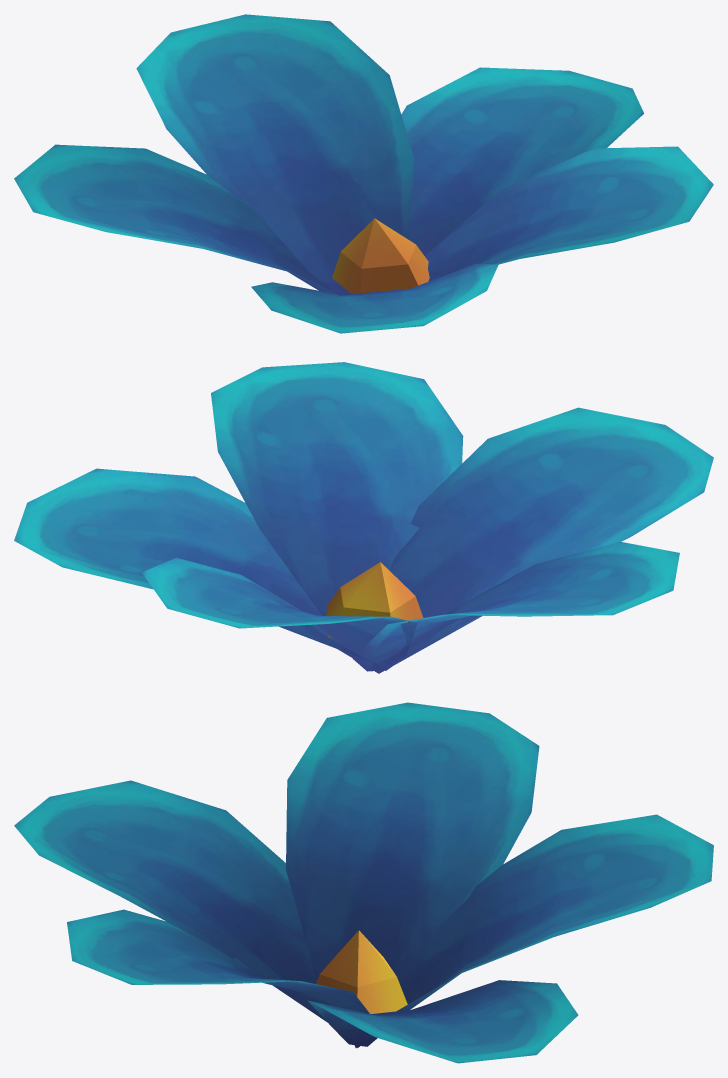
Rendered from VEG0310018.fbx.
The picture shows the model from 3 angles, top to bottom: view 1: azimuth 30°, elevation 25°; view 2: azimuth 150°, elevation 25°; view 3: azimuth 270°, elevation 25°; orthographic projection. The views are drawn at different scales.
Visible parts, largest first — view 1: smVEG0310018; view 2: smVEG0310018; view 3: smVEG0310018.
Boxes of the visible parts, <box> form: smVEG0310018: <box>14,14,713,333</box>; smVEG0310018: <box>14,362,713,673</box>; smVEG0310018: <box>14,702,713,1063</box>.
Size of the model in its own units: 10.36 by 2.84 by 9.78.
1 material, 1 textured.
